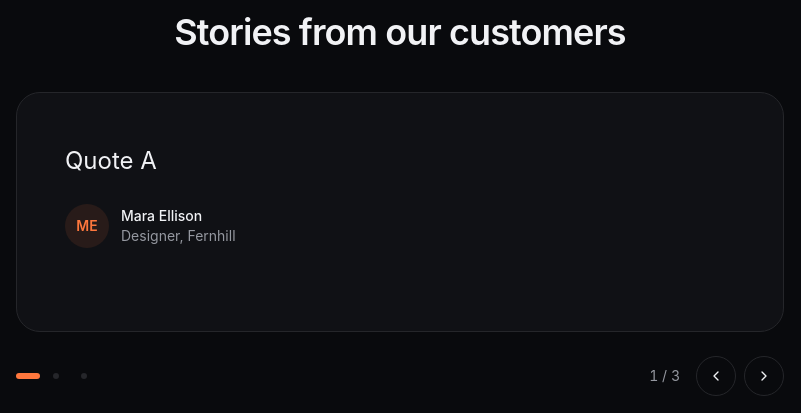
Test: TestimonialCarousel › moves forward and back with the buttons and wraps around
The image size is (801, 413).
What coordinates should you click on to do the following:
click the button named "Previous testimonial"
I would click on:
 (716, 376)
Its box is [696,356,736,396].
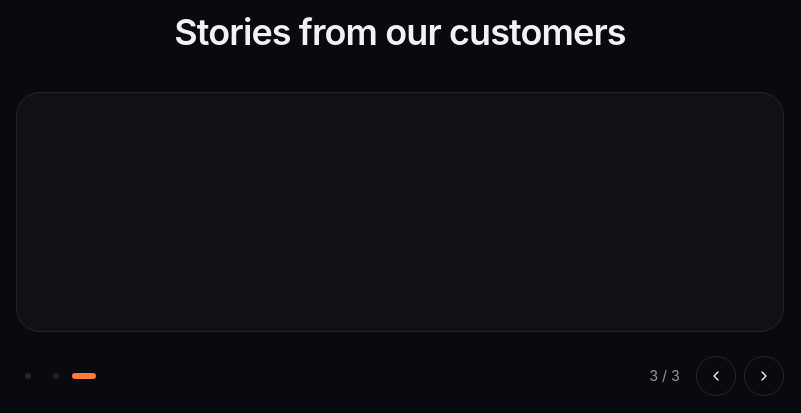
What coordinates should you click on to do the following:
click the button named "Next testimonial"
I would click on:
 (764, 376)
Its box is [744,356,784,396].
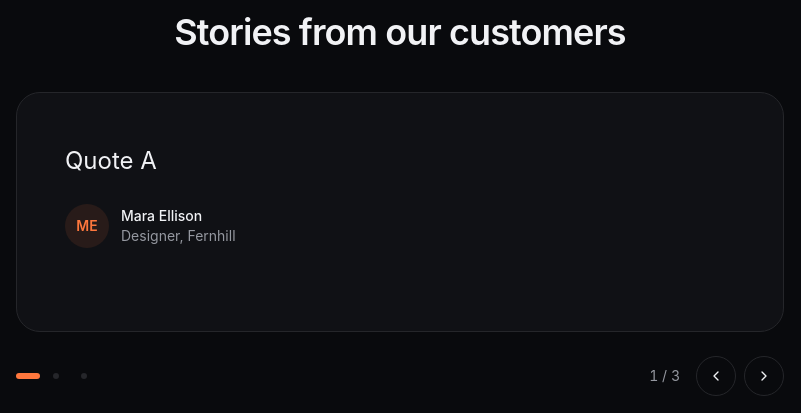
Result: the text "Quote A" is shown at [65,146,157,175]
